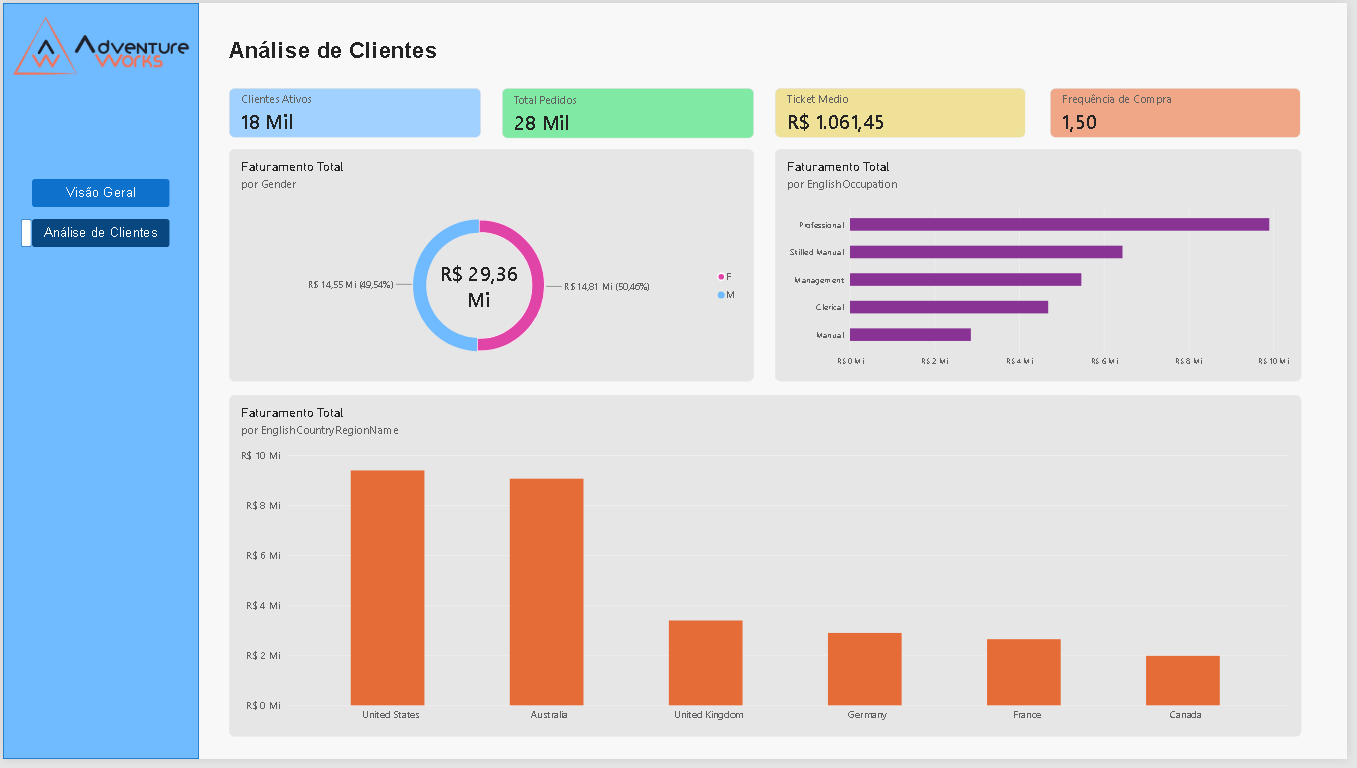

What the dashboard file says about the page in this screenshot:
{"tool":"powerbi","page":{"name":"Análise de Clientes","canvas":[1920,1080],"ordinal":1},"visuals":[{"type":"shape","box":[0,0,280,1080],"z":0},{"type":"image","box":[0,0,280,122],"z":1000},{"type":"textbox","box":[323.3,48.3,360,40],"z":2000},{"type":"donutChart","title":"Faturamento por Gênero","fields":{"Category":["DimCustomer.Gender"],"Y":["FactInternetSales.Faturamento Total"]},"box":[323.3,208.3,750,331.7],"z":3000},{"type":"cardVisual","fields":{"Data":["FactInternetSales.Clientes Ativos"]},"box":[323.3,121.7,360,71.7],"z":4000},{"type":"cardVisual","fields":{"Data":["FactInternetSales.Total Pedidos"]},"box":[712.5,121.2,360,72],"z":5000},{"type":"cardVisual","fields":{"Data":["FactInternetSales.Ticket Medio"]},"box":[1103.3,121.7,358.3,71.7],"z":6000},{"type":"clusteredColumnChart","title":"Faturamento por País","fields":{"Category":["DimGeography.EnglishCountryRegionName"],"Y":["FactInternetSales.Faturamento Total"]},"box":[323.3,560,1531.7,488.3],"z":7000},{"type":"barChart","title":"Faturamento por Profissão","fields":{"Category":["DimCustomer.EnglishOccupation"],"Y":["FactInternetSales.Faturamento Total"]},"box":[1103.3,208.3,751.7,331.7],"z":8000},{"type":"actionButton","box":[41.7,250.8,196.7,40],"z":9000},{"type":"actionButton","box":[41.7,308.3,196.7,40],"z":10000},{"type":"shape","box":[25,308.5,12,40],"z":11000},{"type":"cardVisual","fields":{"Data":["FactInternetSales.Frequência de Compra"]},"box":[1495.7,121.4,358.6,71.4],"z":12000},{"type":"actionButton","box":[41.7,361.2,196.7,40],"z":12001}]}

Visuals, with their boxes on the page's 1920x1080 design canvas (x1, y1, x2, y2). These are canvas units, not pixel positions in the 1357x768 screenshot, which may show the page scaled, cropped or inside an application window:
shape: x1=0 y1=0 x2=280 y2=1080
image: x1=0 y1=0 x2=280 y2=122
textbox: x1=323 y1=48 x2=683 y2=88
"Faturamento por Gênero" donutChart: x1=323 y1=208 x2=1073 y2=540
cardVisual - FactInternetSales.Clientes Ativos: x1=323 y1=122 x2=683 y2=193
cardVisual - FactInternetSales.Total Pedidos: x1=712 y1=121 x2=1072 y2=193
cardVisual - FactInternetSales.Ticket Medio: x1=1103 y1=122 x2=1462 y2=193
"Faturamento por País" clusteredColumnChart: x1=323 y1=560 x2=1855 y2=1048
"Faturamento por Profissão" barChart: x1=1103 y1=208 x2=1855 y2=540
actionButton: x1=42 y1=251 x2=238 y2=291
actionButton: x1=42 y1=308 x2=238 y2=348
shape: x1=25 y1=308 x2=37 y2=348
cardVisual - FactInternetSales.Frequência de Compra: x1=1496 y1=121 x2=1854 y2=193
actionButton: x1=42 y1=361 x2=238 y2=401
